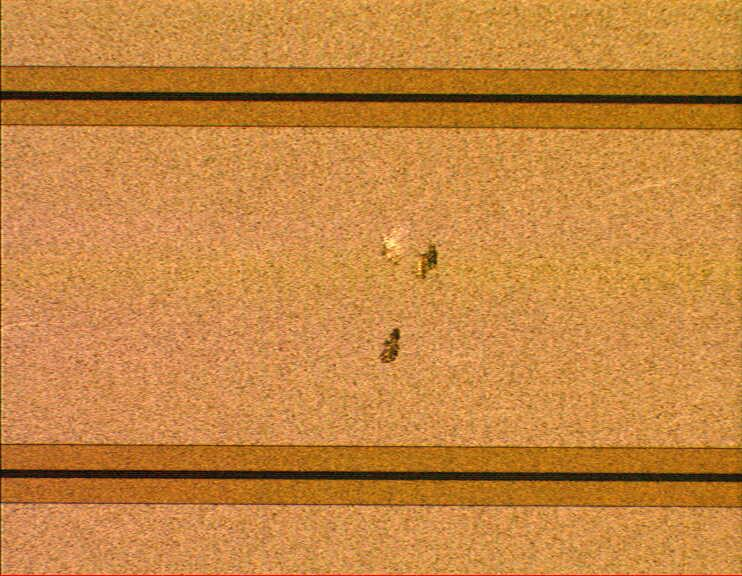SCRATCH: (338, 161, 716, 380)
